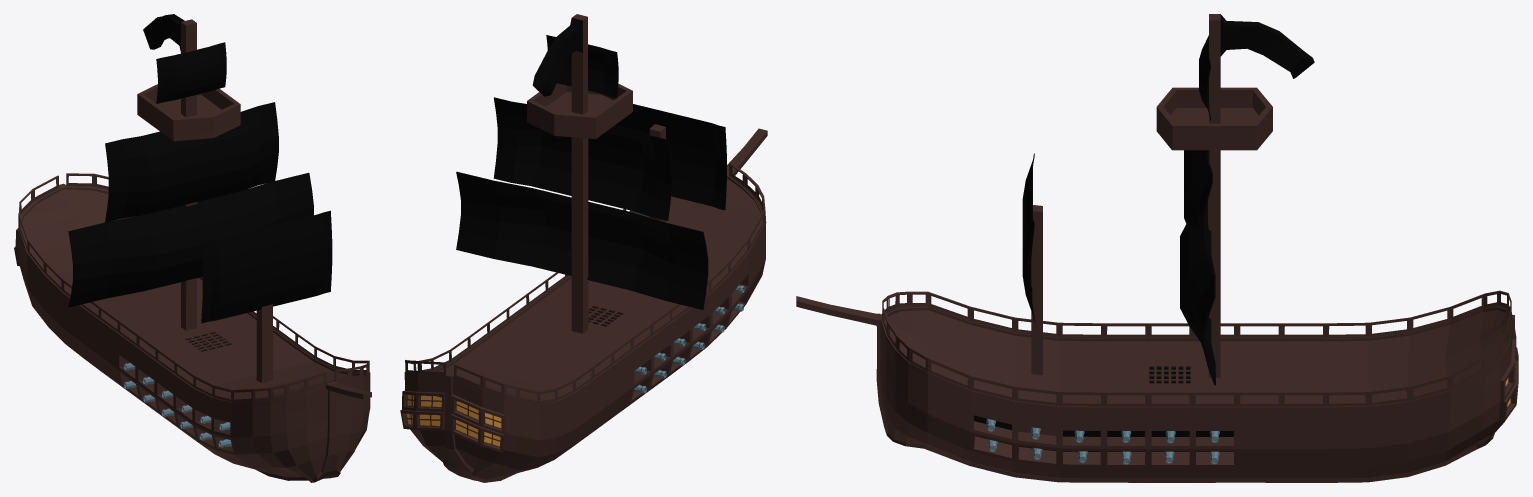
File: ShipWithoutFrontSailStupidity.fbx
The picture shows the model from 3 angles, left to right: view 1: azimuth 30°, elevation 25°; view 2: azimuth 150°, elevation 25°; view 3: azimuth 270°, elevation 25°; orthographic projection. The views are drawn at different scales.
Visible parts, largest first — view 1: Cube; view 2: Cube; view 3: Cube.
Boxes of the visible parts, x1,y1,x2,y2 form: Cube: (14, 14, 371, 482); Cube: (400, 14, 767, 482); Cube: (796, 14, 1518, 482).
Size of the model in its own units: 391 by 613 by 868.
